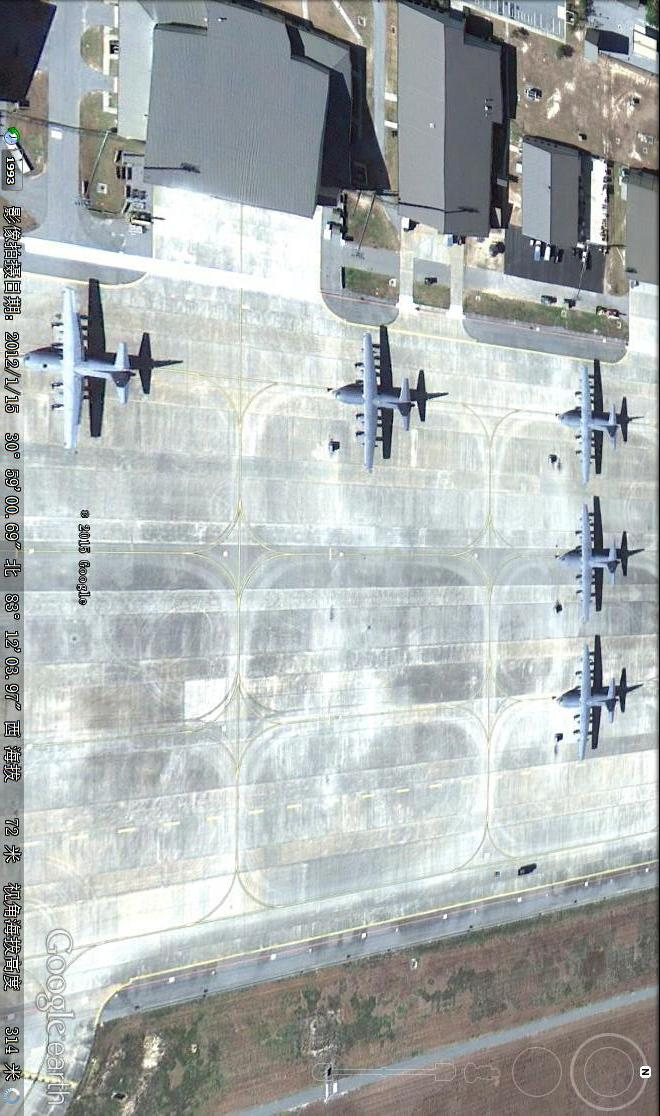C-130: (19, 288, 143, 450), (329, 328, 423, 479), (553, 640, 632, 757), (552, 501, 627, 624), (551, 366, 624, 485)
